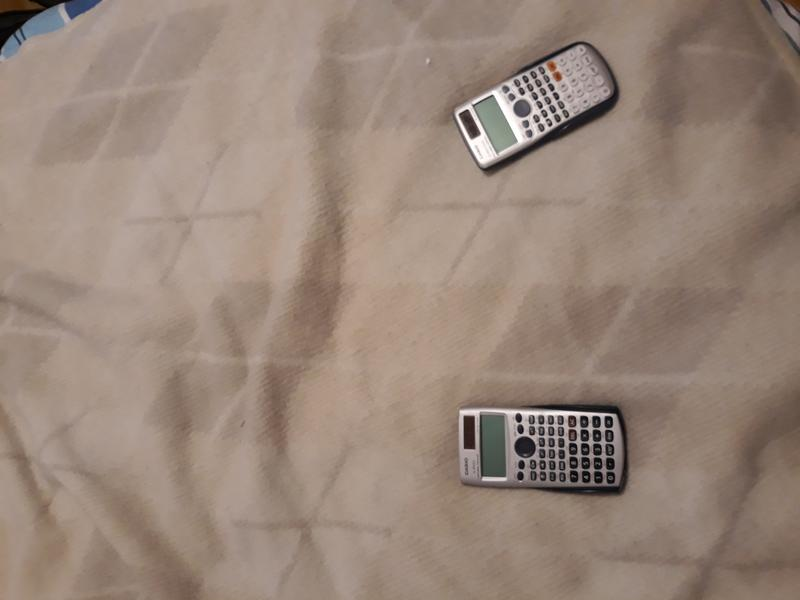CASIO_fx_991ES: (441, 399, 636, 501)
CASIO_fx_991ES_PLUS: (421, 36, 632, 178)
